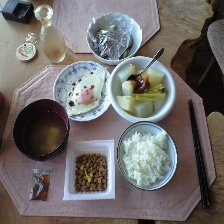rice: (118, 127, 175, 191)
